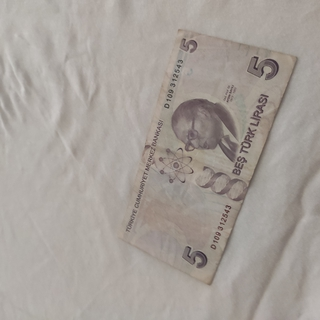5TLBack: (114, 27, 298, 285)
